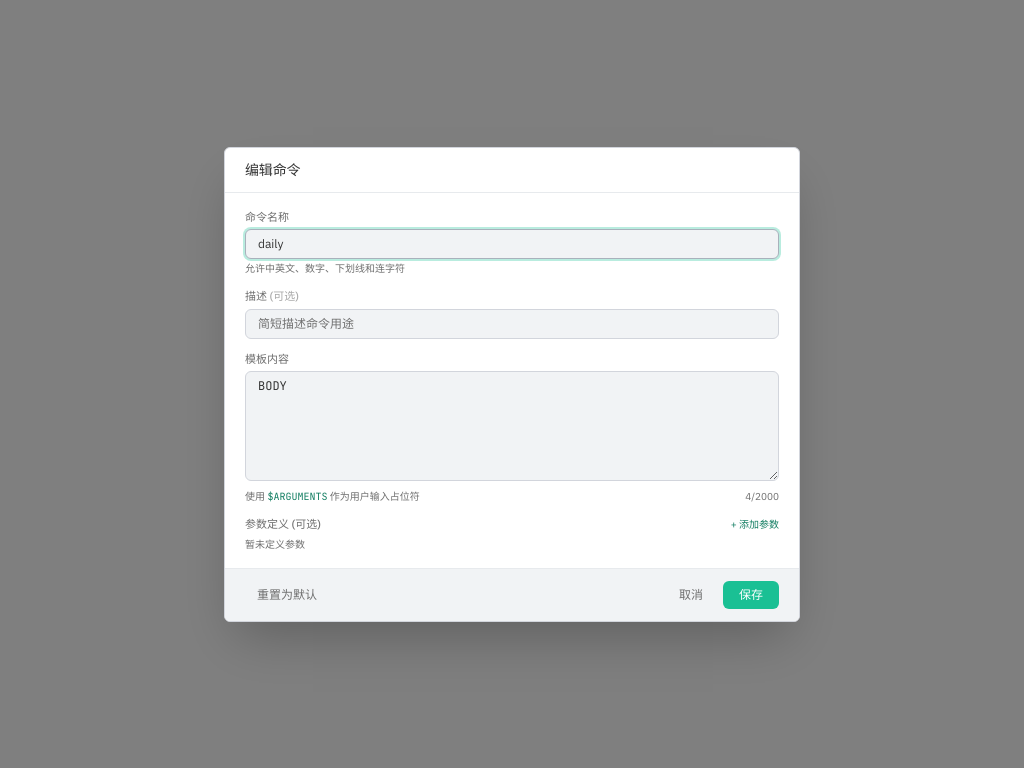
Test: CommandEditModal 新建撞名即时提示 › 编辑模式改名为另一个已有命令 → 报错
Replace the text in the 1st field with "日报": (512, 244) [245,229,779,259]
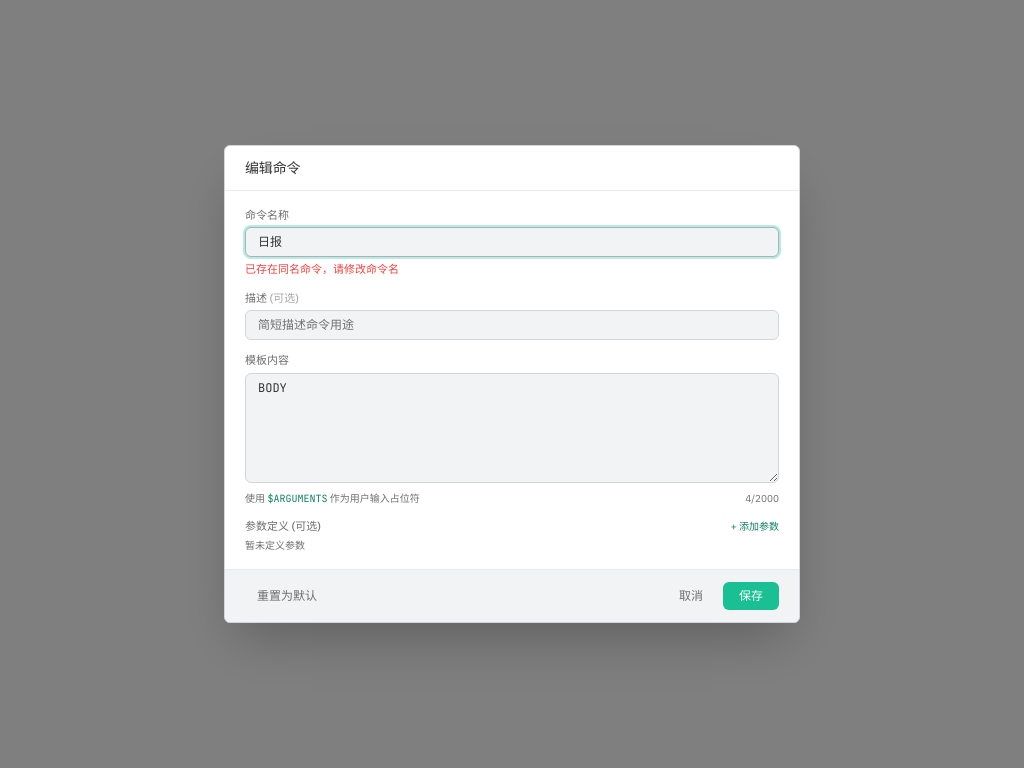
Result: the message reads "已存在同名命令，请修改命令名" at [245,262,399,276]
